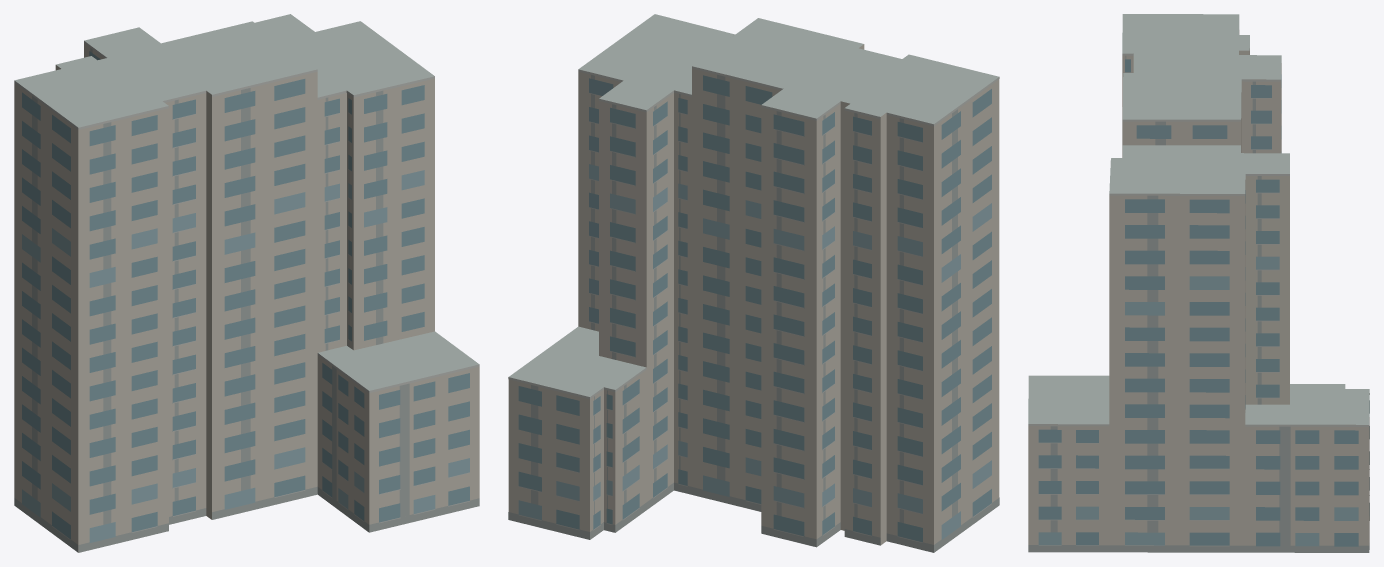
Rendered from residential-4eedef70-0fbe-457f-bf14-4c9c15965b36.glb.
The picture shows the model from 3 angles, left to right: view 1: azimuth 30°, elevation 25°; view 2: azimuth 150°, elevation 25°; view 3: azimuth 270°, elevation 25°; orthographic projection. The views are drawn at different scales.
Parts seen in each view (by area): view 1: residential-4eedef70-0fbe-457f-bf14-4c9c15965b36.tmp; view 2: residential-4eedef70-0fbe-457f-bf14-4c9c15965b36.tmp; view 3: residential-4eedef70-0fbe-457f-bf14-4c9c15965b36.tmp.
Part boxes in pixels (x1,y1,x2,y2): residential-4eedef70-0fbe-457f-bf14-4c9c15965b36.tmp: [14, 14, 479, 552]; residential-4eedef70-0fbe-457f-bf14-4c9c15965b36.tmp: [508, 14, 999, 552]; residential-4eedef70-0fbe-457f-bf14-4c9c15965b36.tmp: [1028, 14, 1369, 552].
Size of the model in its own units: 39.48 by 45.75 by 36.87.
